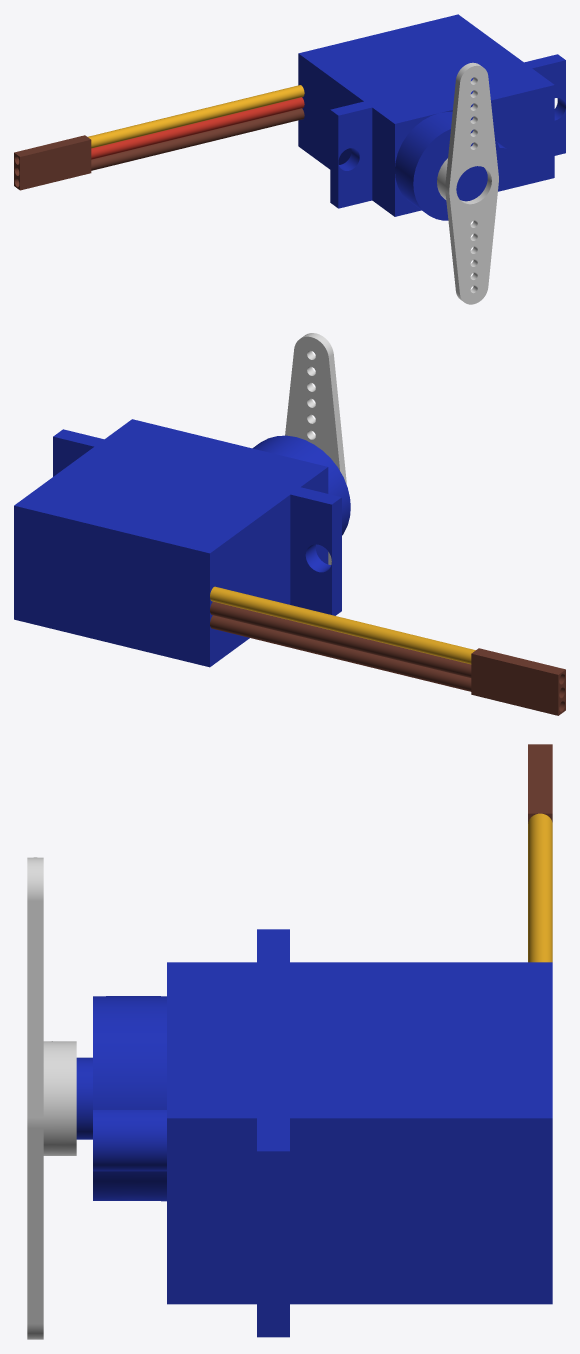
Rendered from Mini Serwo.fbx.
3 renders of one model, top to bottom at view 1: azimuth 30°, elevation 25°; view 2: azimuth 150°, elevation 25°; view 3: azimuth 270°, elevation 25°, orthographic. The views are drawn at different scales.
Visible parts, largest first — view 1: Body1, Body2, Body4; view 2: Body1, Body2, Body4; view 3: Body1, Body4, Body2.
Part boxes in pixels (<box>): Body1: <box>298,14,565,220</box>; Body2: <box>14,85,304,190</box>; Body4: <box>437,62,498,304</box>; Body1: <box>14,419,350,667</box>; Body2: <box>210,586,565,715</box>; Body4: <box>285,333,346,564</box>; Body1: <box>76,929,552,1337</box>; Body4: <box>27,857,76,1339</box>; Body2: <box>528,744,552,962</box>.
Bounding box in the file's own units: 67.25 × 32 × 32.
